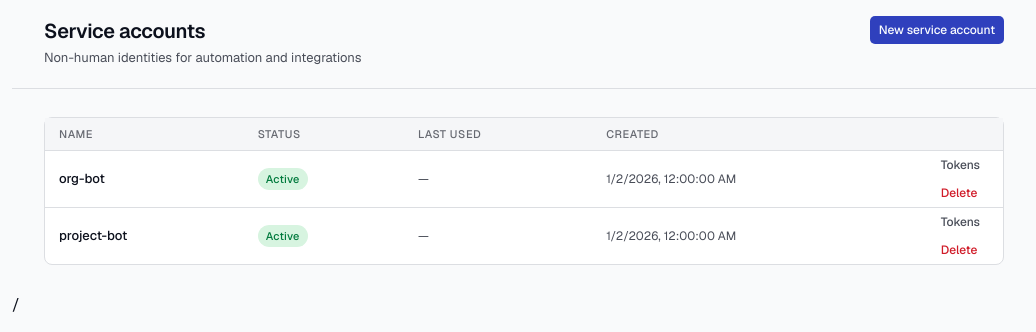
Test: opening one › opens an organisation account under the organisation
Click the text "org-bot": [82, 179] box [59,170,105,187]
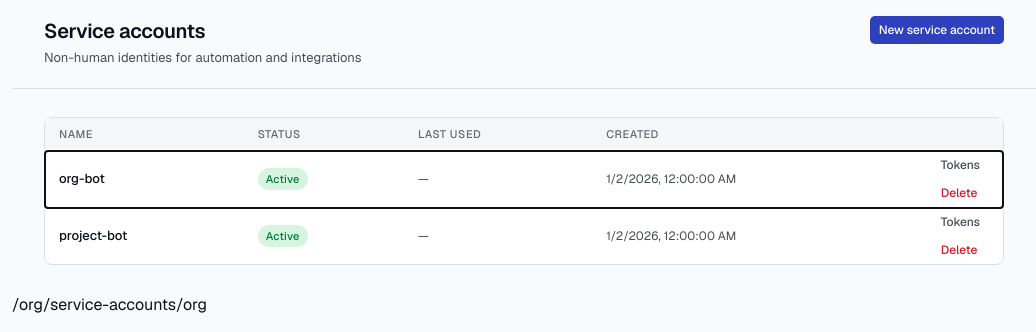
Expected: the text with test id "here" reads "/org/service-accounts/org", [12,294,207,315]
